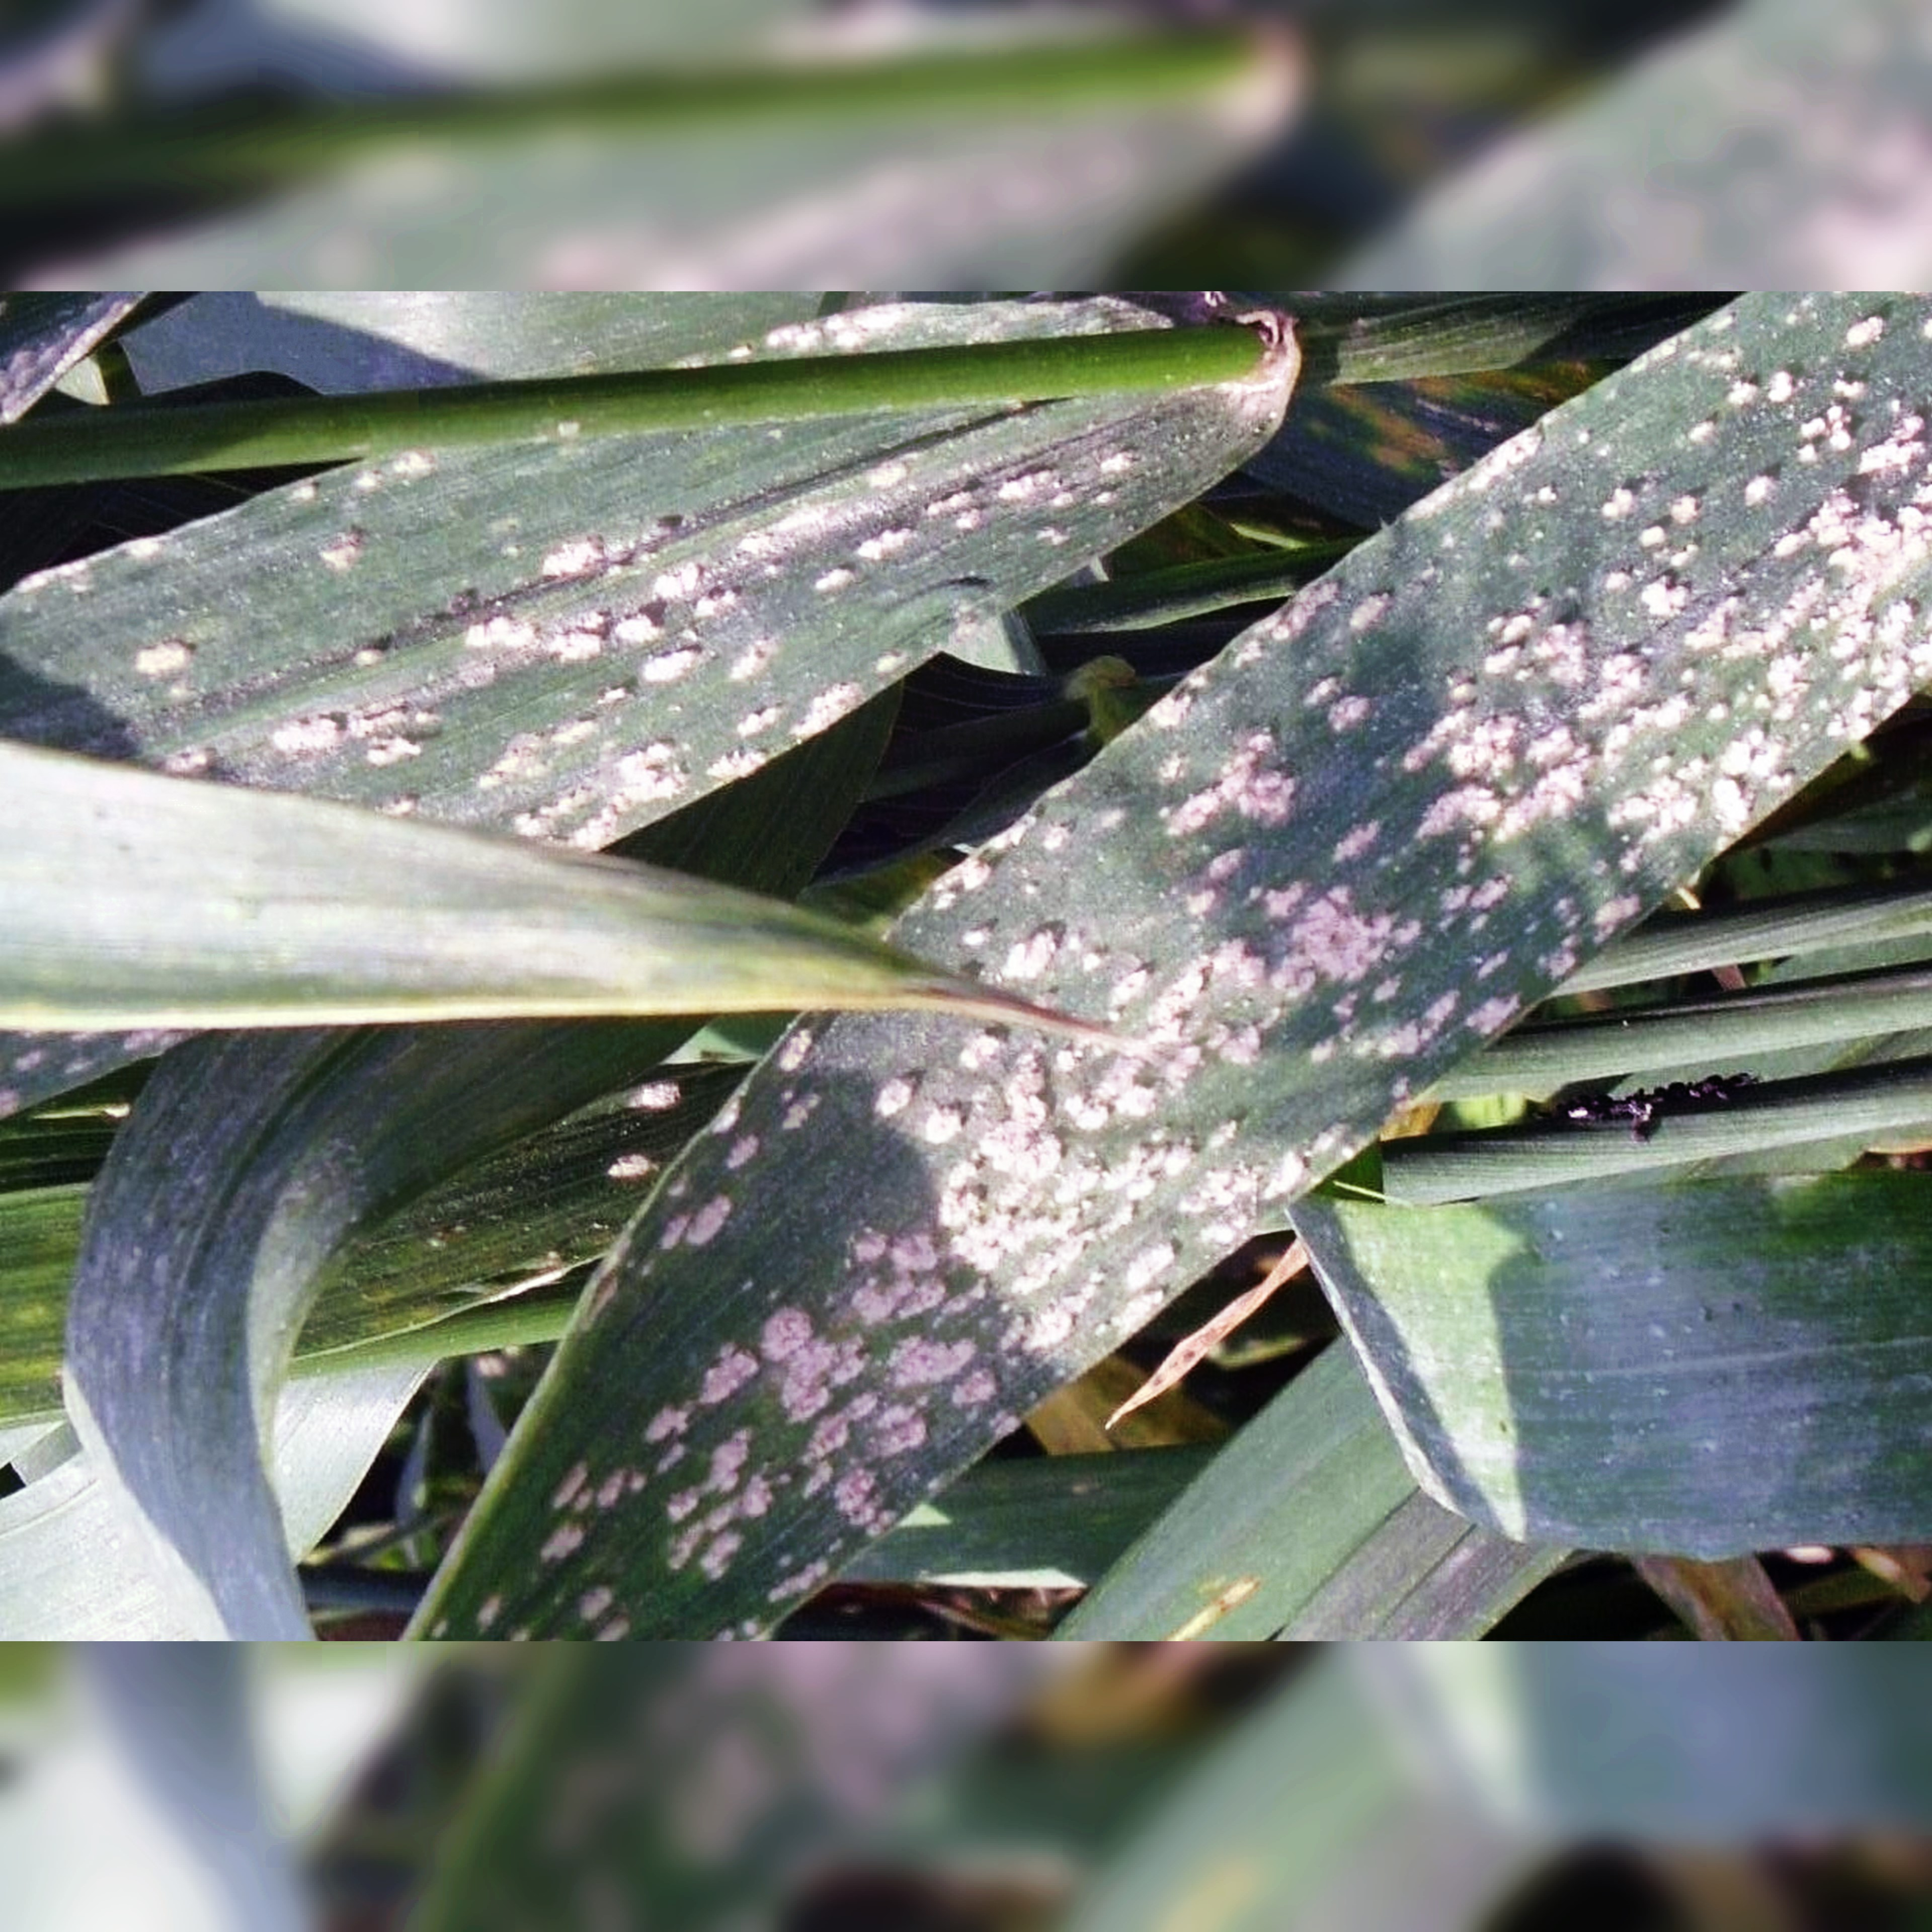Powdery Mildew: (694, 460, 1913, 1550)
